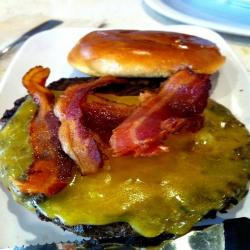burger: (2, 20, 246, 246)
